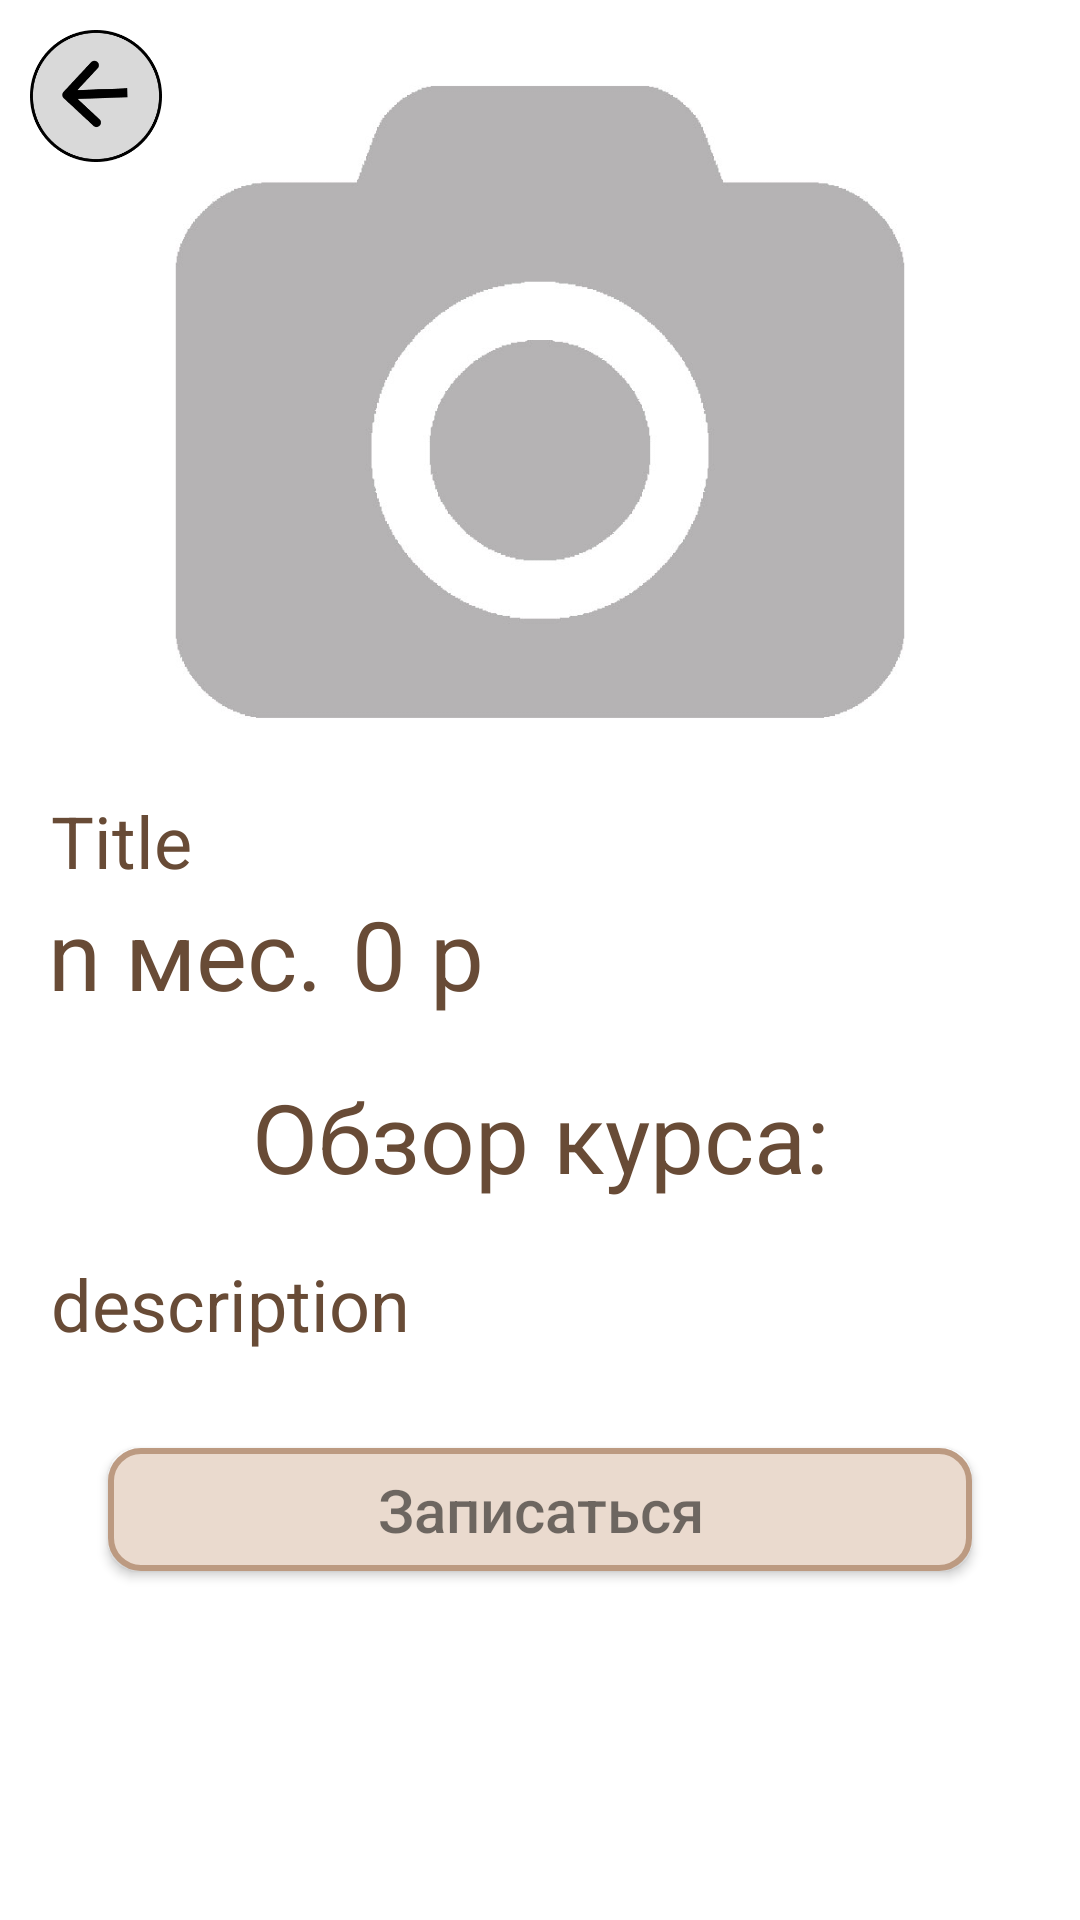

Screen size 1080w x 1920h. Icon name, then its center in pixels as [x,y]:
back: [96,96]
